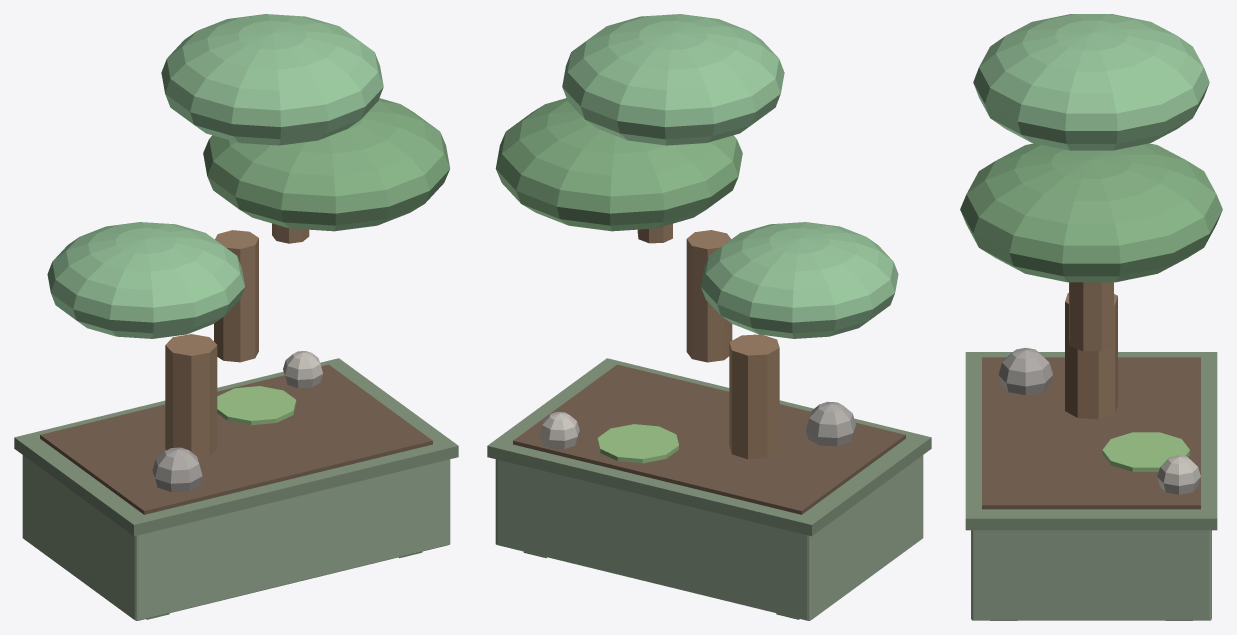
Rendered from bonsai.glb.
3 views of the same model, side by side, from view 1: azimuth 30°, elevation 25°; view 2: azimuth 150°, elevation 25°; view 3: azimuth 270°, elevation 25° (orthographic). The views are drawn at different scales.
Visible parts, largest first — view 1: bonsai; view 2: bonsai; view 3: bonsai.
Part boxes in pixels (x1,y1,x2,y2): bonsai: (14,14,458,620); bonsai: (487,14,931,620); bonsai: (960,14,1222,620).
Size of the model in its own units: 0.4106 by 0.5395 by 0.24.
